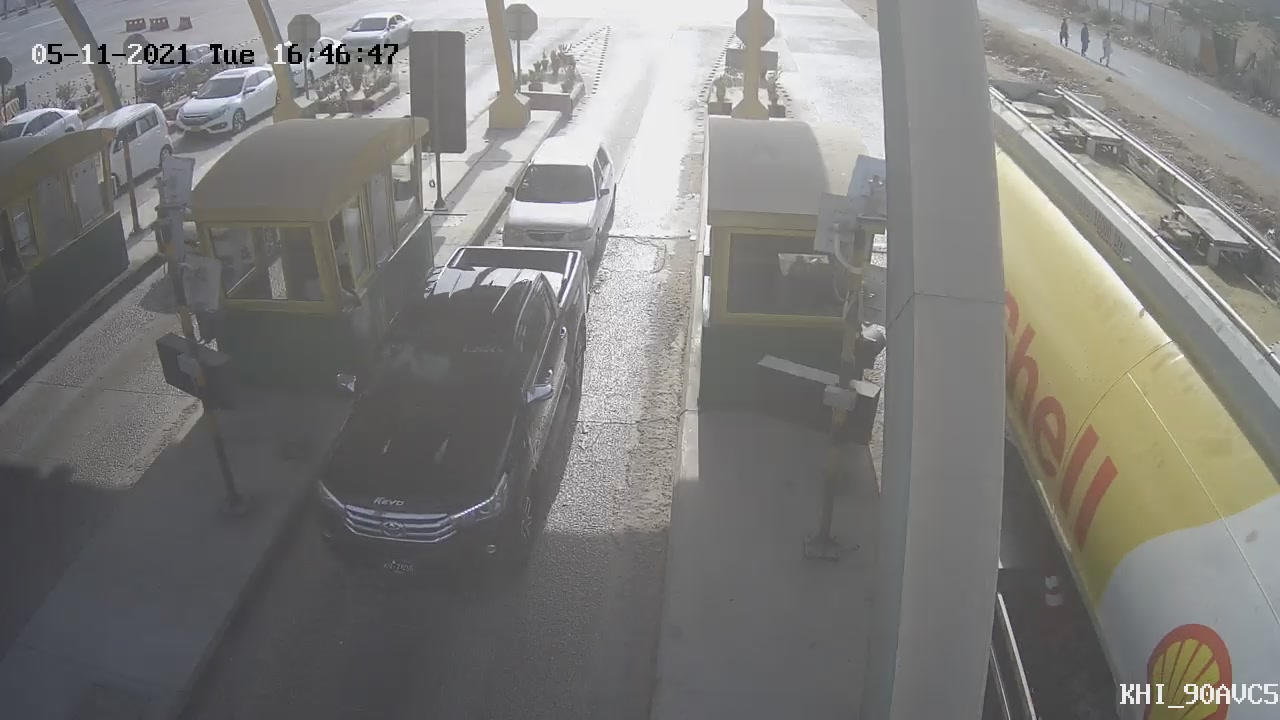F1: (278, 227, 605, 600), (492, 121, 630, 282)
